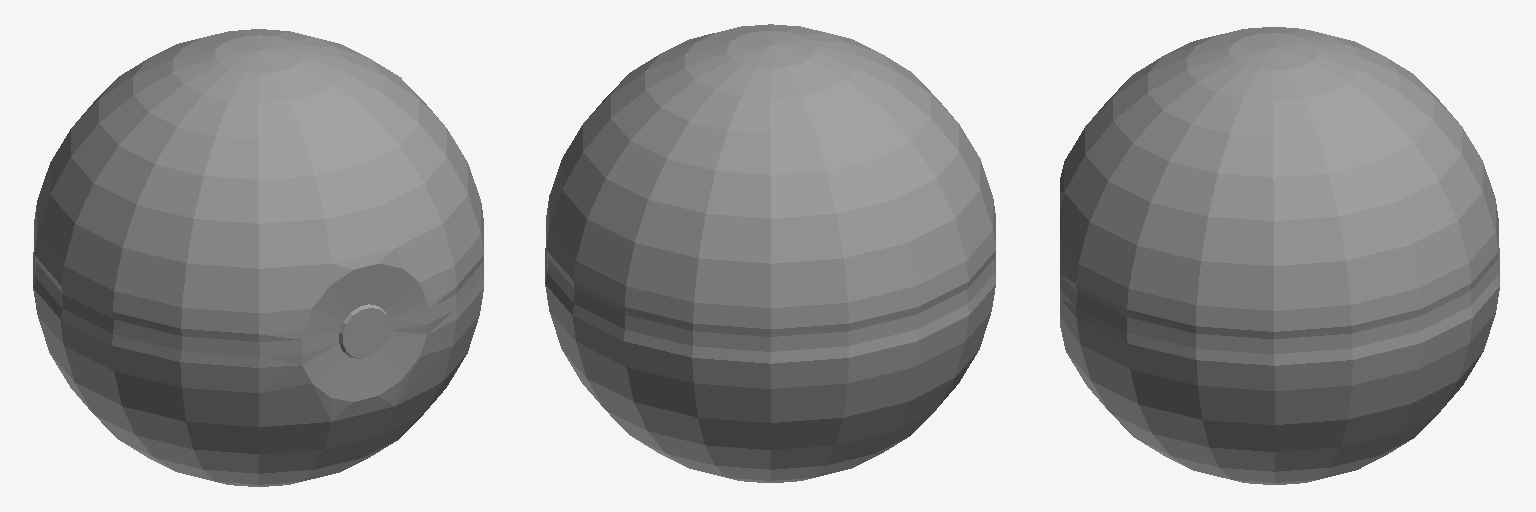
Rendered from DuskBall.obj.
The picture shows the model from 3 angles: view 1: azimuth 30°, elevation 25°; view 2: azimuth 150°, elevation 25°; view 3: azimuth 270°, elevation 25°; orthographic projection.
Parts seen in each view (by area): view 1: DuskBall; view 2: DuskBall; view 3: DuskBall.
Part boxes in pixels (left/top/right/bottom): DuskBall: left=33, top=29, right=483, bottom=486; DuskBall: left=545, top=24, right=995, bottom=482; DuskBall: left=1060, top=27, right=1499, bottom=484.
Bounding box in the file's own units: 0.1532 × 0.1536 × 0.1474.